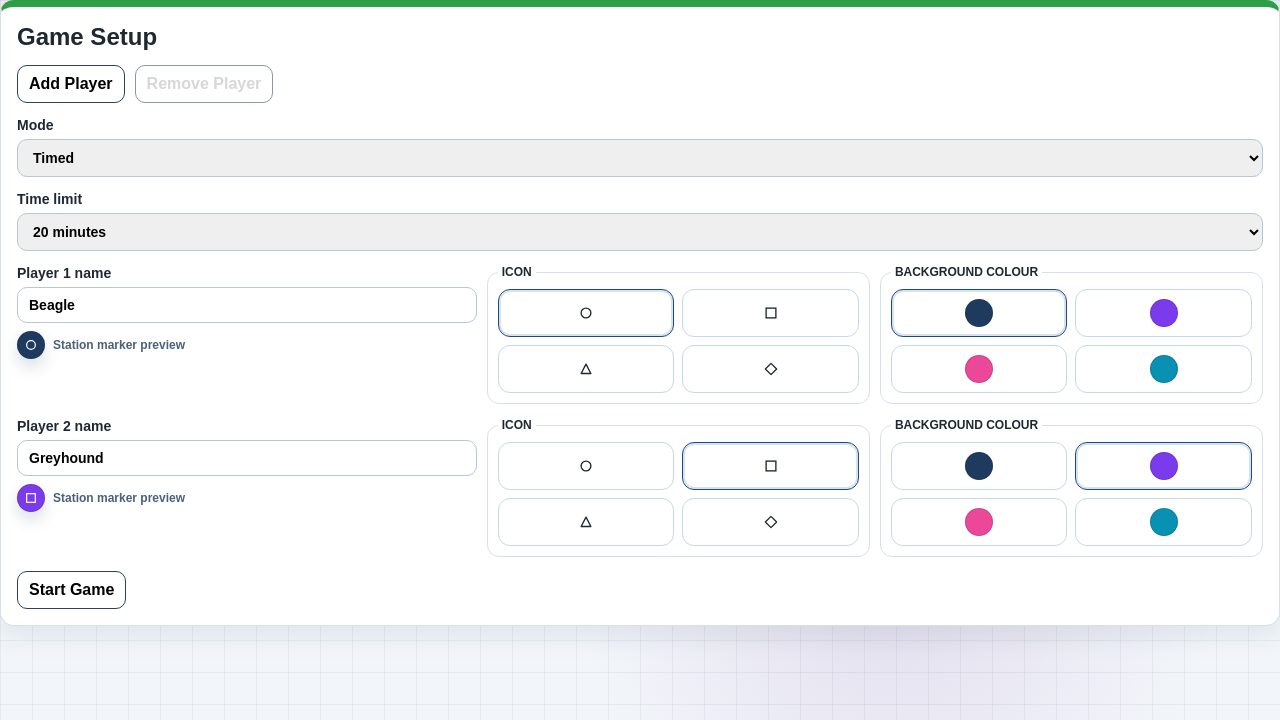
it: SetupScreen › hides secondary limit selectors in classic mode
Select "Classic" in the dropdown labelled "Mode" at [640, 158], box [17,139,1263,177]
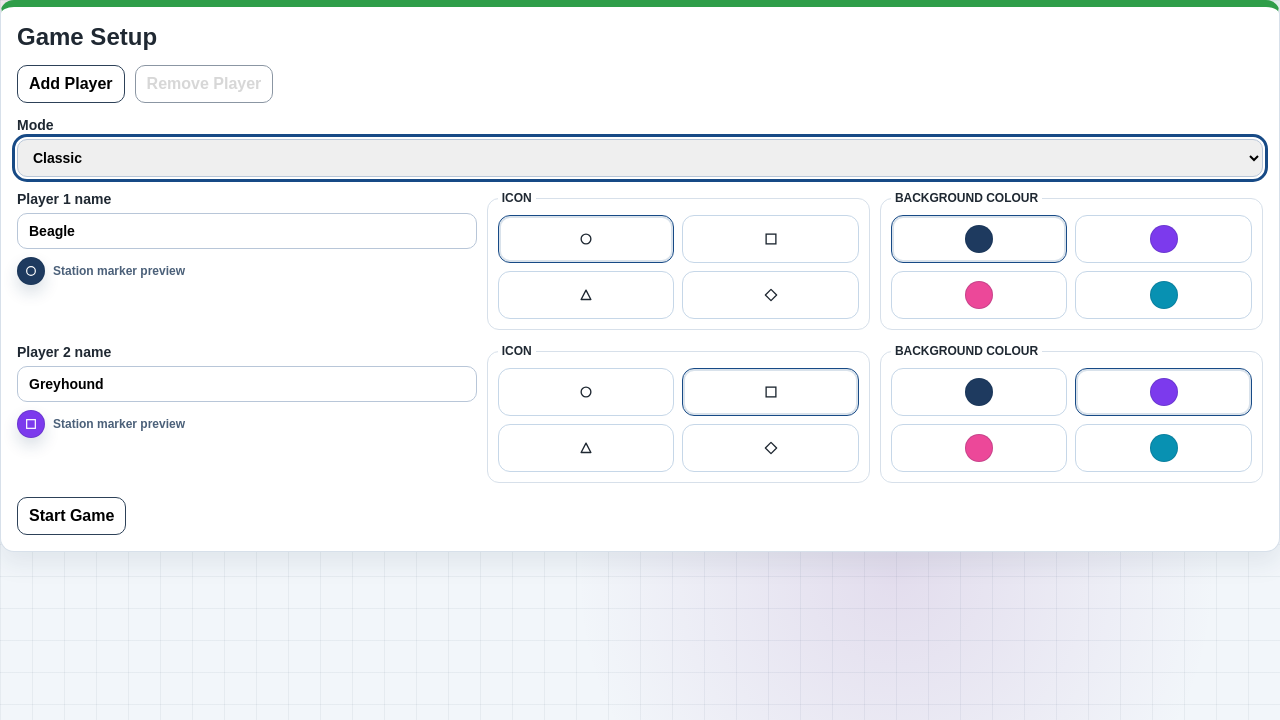
Now the label labelled "Time limit" is gone
